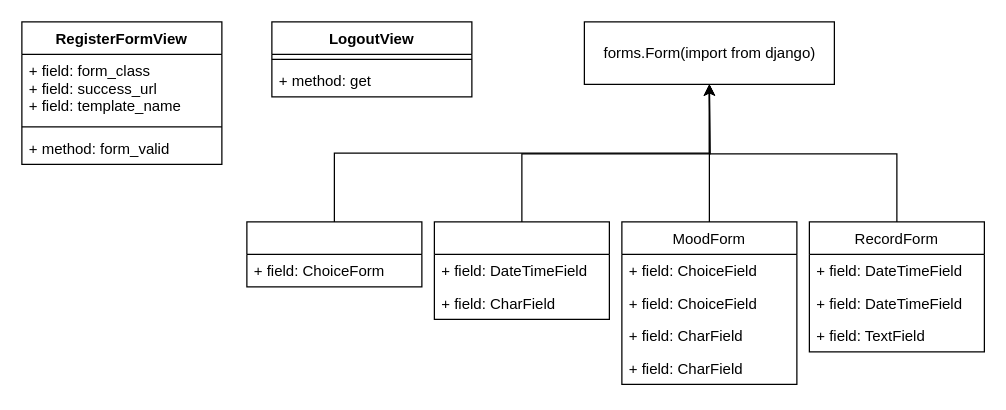
The diagram is 1006 pixels wide and 410 high, and some of its shapes have lost their labels. The shapes that lost their labels are listed below. From the top down, each one's box as (x1, y1, x2, y2) in pixels, then its label:
(246, 221, 422, 287): SurveyForm
(433, 221, 609, 319): NoteForm
